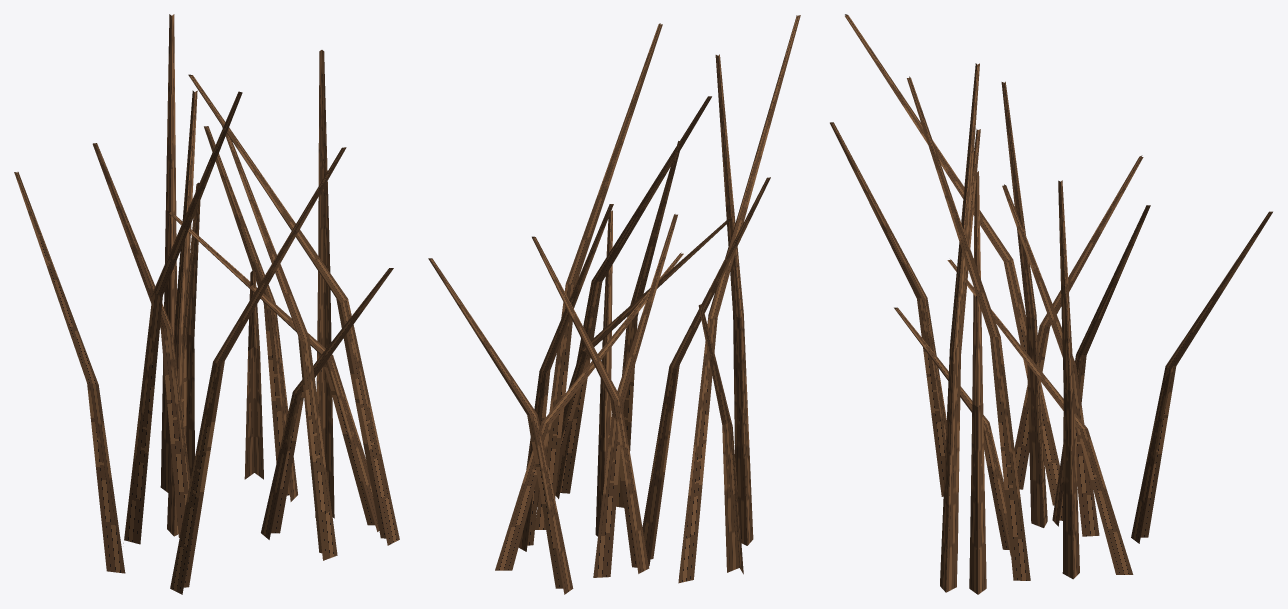
File: PAN-02_Juncal_denso.gltf
The picture shows the model from 3 angles, left to right: view 1: azimuth 30°, elevation 25°; view 2: azimuth 150°, elevation 25°; view 3: azimuth 270°, elevation 25°; orthographic projection. The views are drawn at different scales.
Visible parts, largest first — view 1: PAN-02_Juncal_denso; view 2: PAN-02_Juncal_denso; view 3: PAN-02_Juncal_denso.
Boxes of the visible parts, x1,y1,x2,y2 form: PAN-02_Juncal_denso: [14, 14, 399, 594]; PAN-02_Juncal_denso: [428, 15, 800, 594]; PAN-02_Juncal_denso: [830, 14, 1272, 594].
Bounding box in the file's own units: 0.9222 × 1.7 × 1.41.
Materials: 1 (1 with a texture image).
